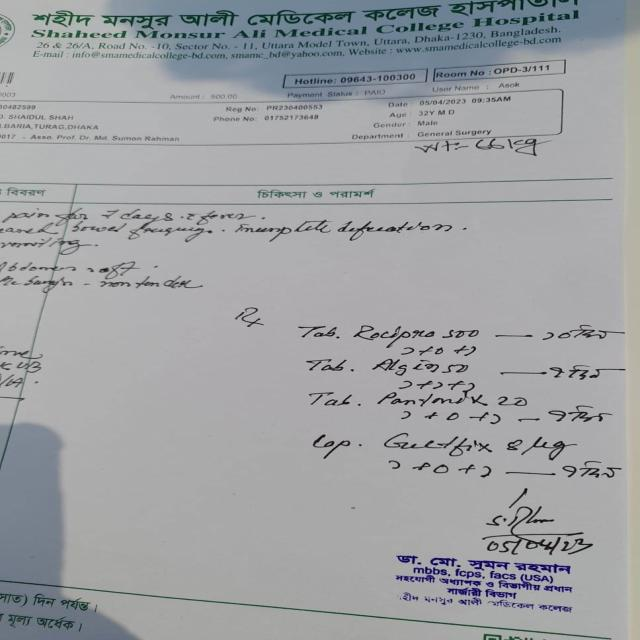Algin: (371, 357, 443, 377)
Gutfix: (374, 426, 502, 458)
Pantonix: (382, 389, 490, 411)
Rocipro: (349, 320, 444, 343)
